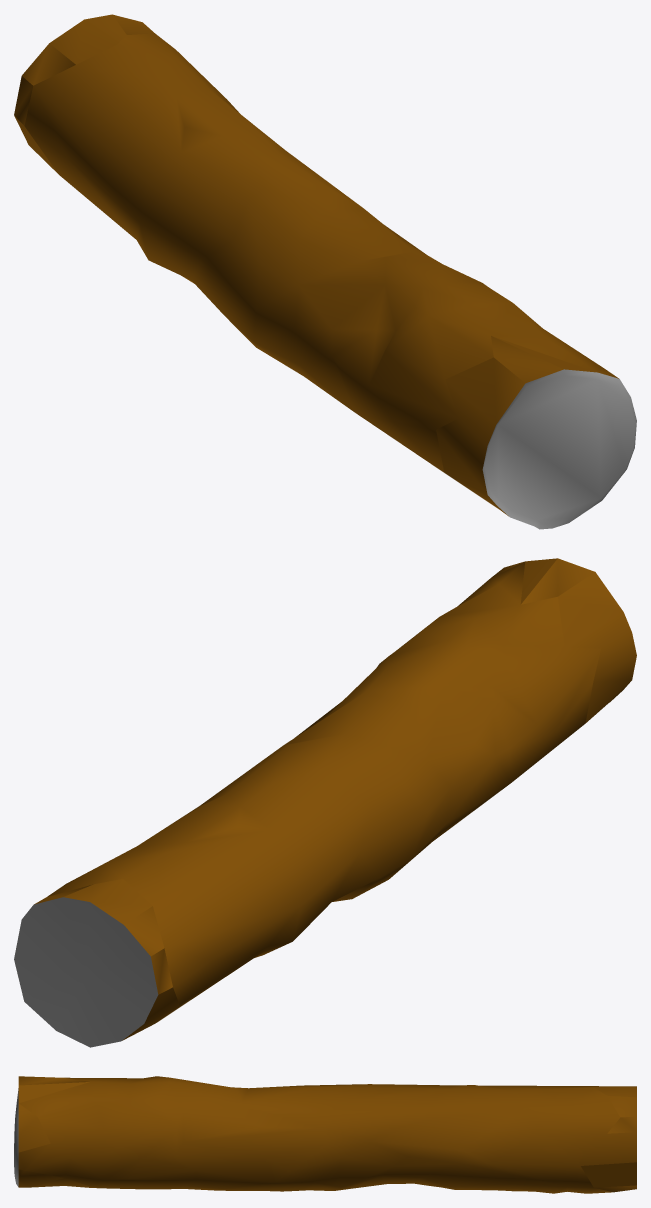
Rendered from Forest_pine_04_01_log.FBX.
3 views of the same model, one above another, from view 1: azimuth 30°, elevation 25°; view 2: azimuth 150°, elevation 25°; view 3: azimuth 270°, elevation 25° (orthographic). The views are drawn at different scales.
Visible parts, largest first — view 1: Forest_pine_04_01_log_LOD0; view 2: Forest_pine_04_01_log_LOD0; view 3: Forest_pine_04_01_log_LOD0.
Part boxes in pixels (x1,y1,x2,y2): Forest_pine_04_01_log_LOD0: (14,14,636,529); Forest_pine_04_01_log_LOD0: (14,558,636,1047); Forest_pine_04_01_log_LOD0: (14,1076,636,1193).
Size of what is drawn, in the model's own units: 25.61 by 126 by 23.53.
